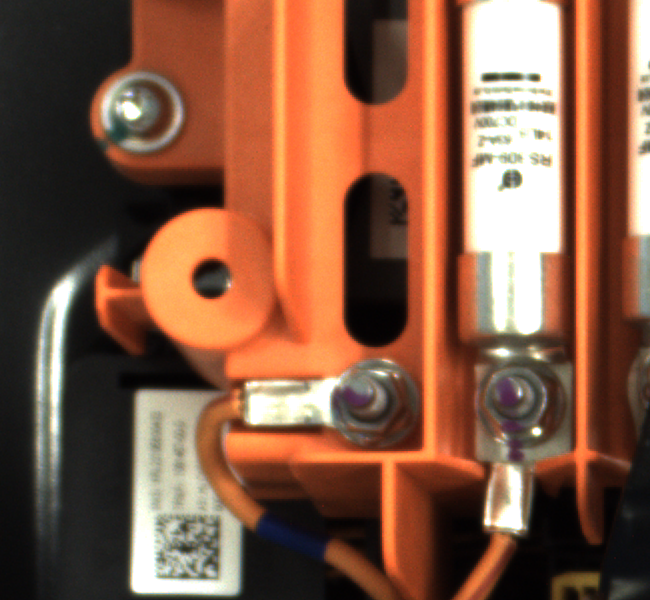screw_m: (87, 66, 193, 159)
screw_s: (461, 357, 568, 455), (321, 359, 420, 454)
